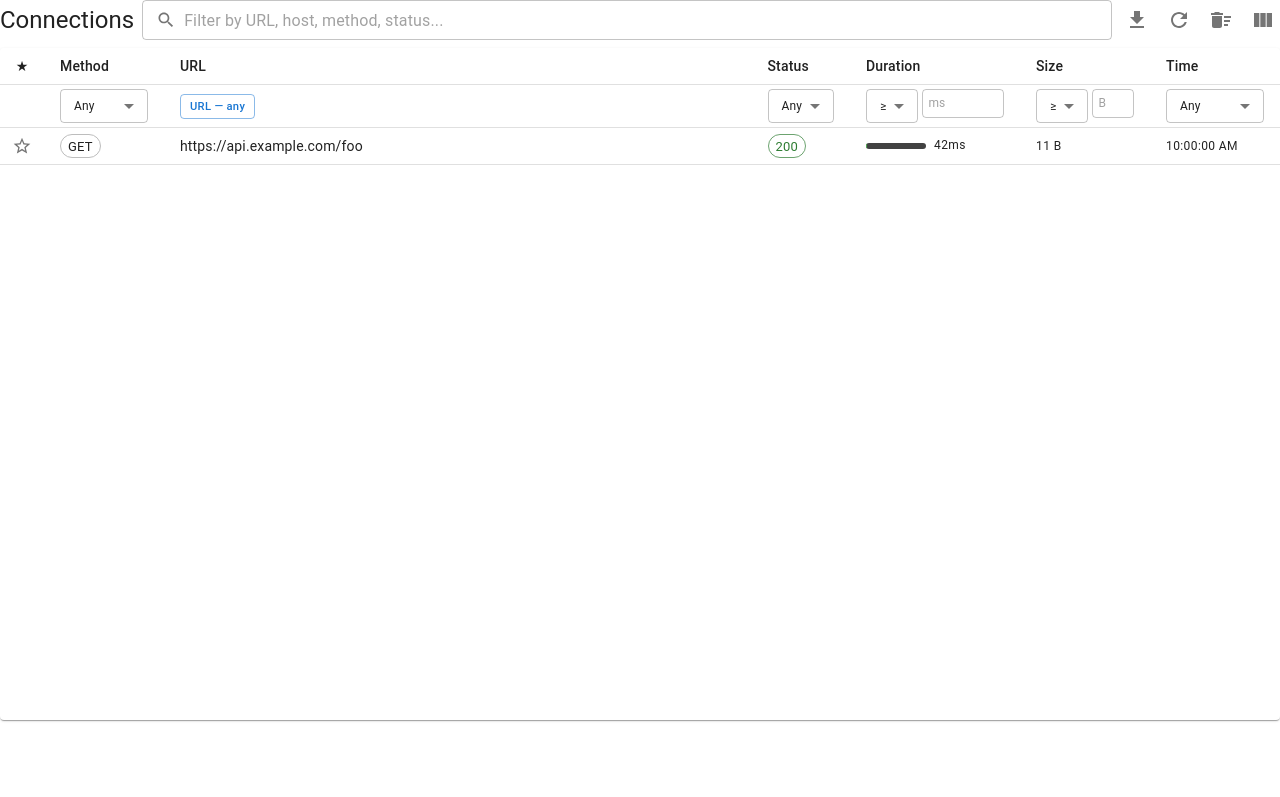
Scenario: ConnectionsPage — body format / clipboard error toasts › saves a binary response body via the data URI download path
Click the text "https://api.example.com/foo" at (458, 147), box [164,128,752,165]
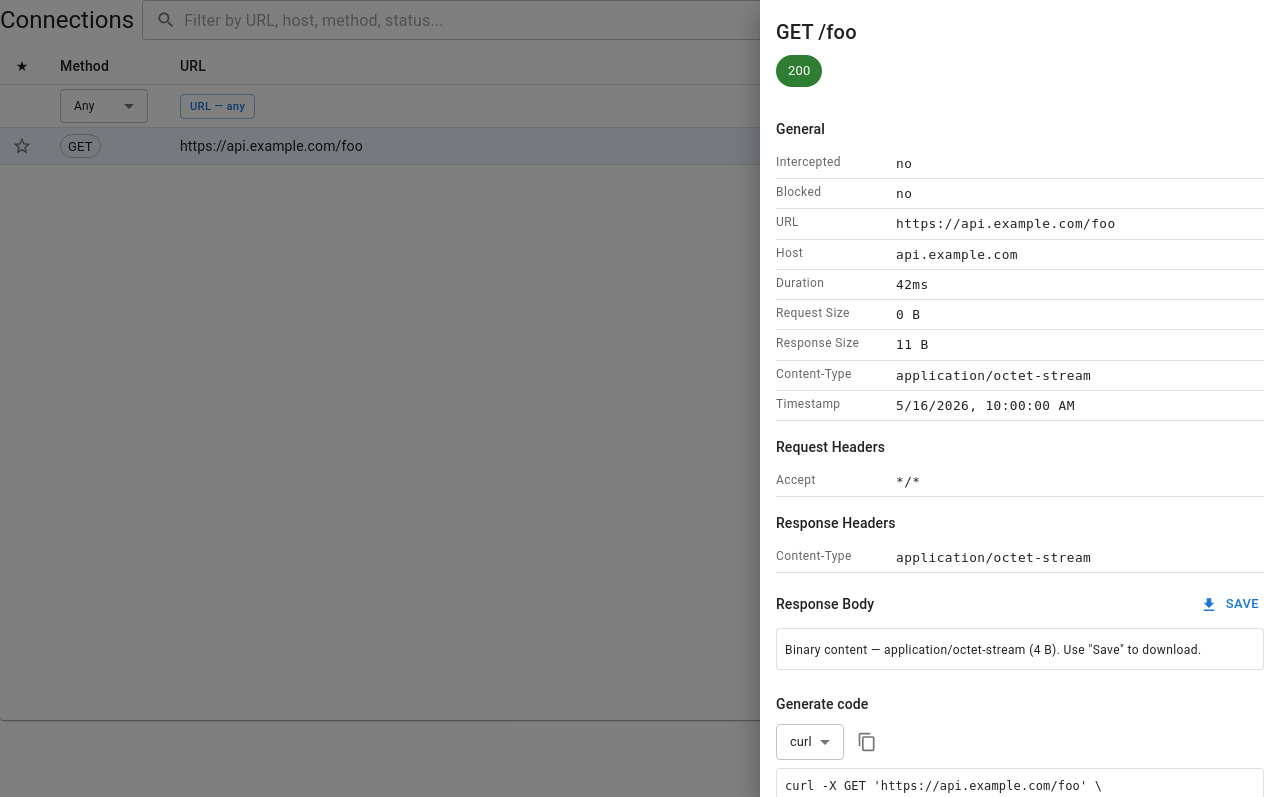
Click the button with test id "response-body-save" at (1230, 605), box [1197,590,1264,620]
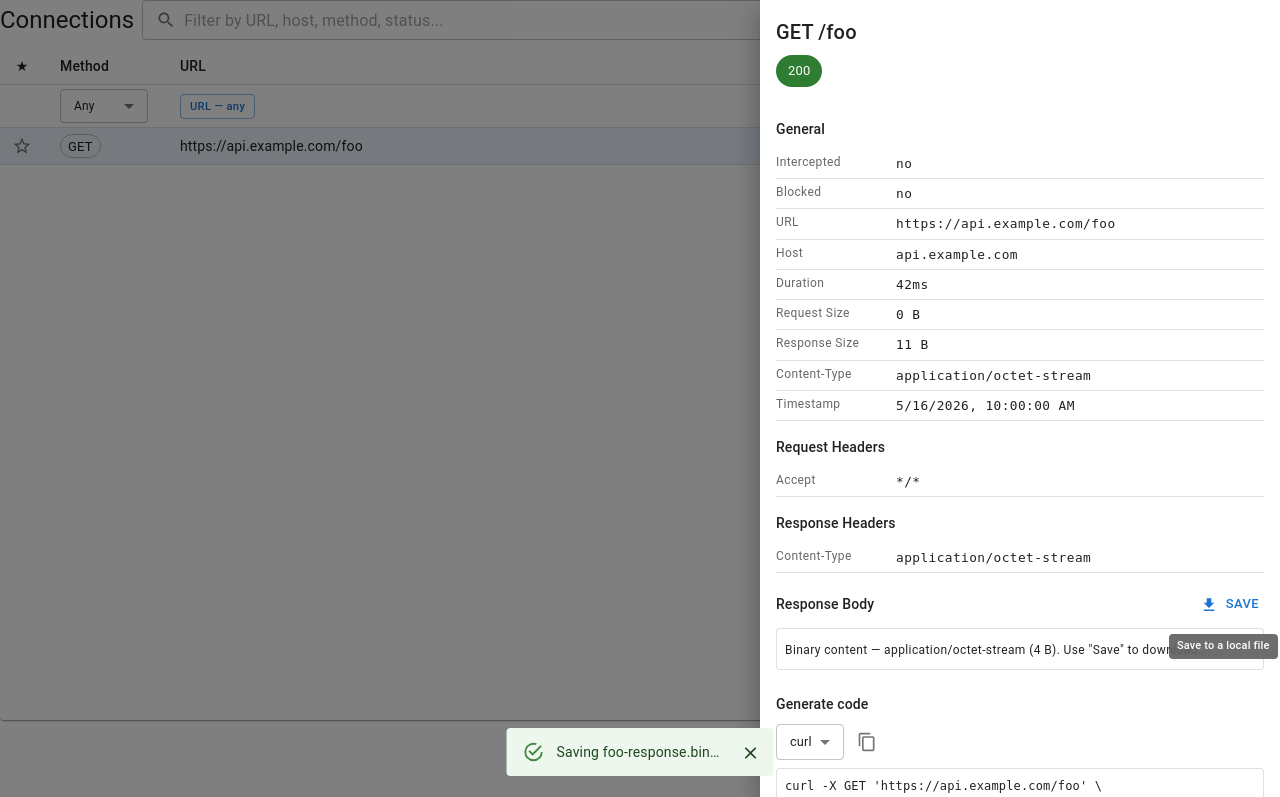
Result: the text "Saving foo-response.bin…" is shown at [556,744,719,760]
